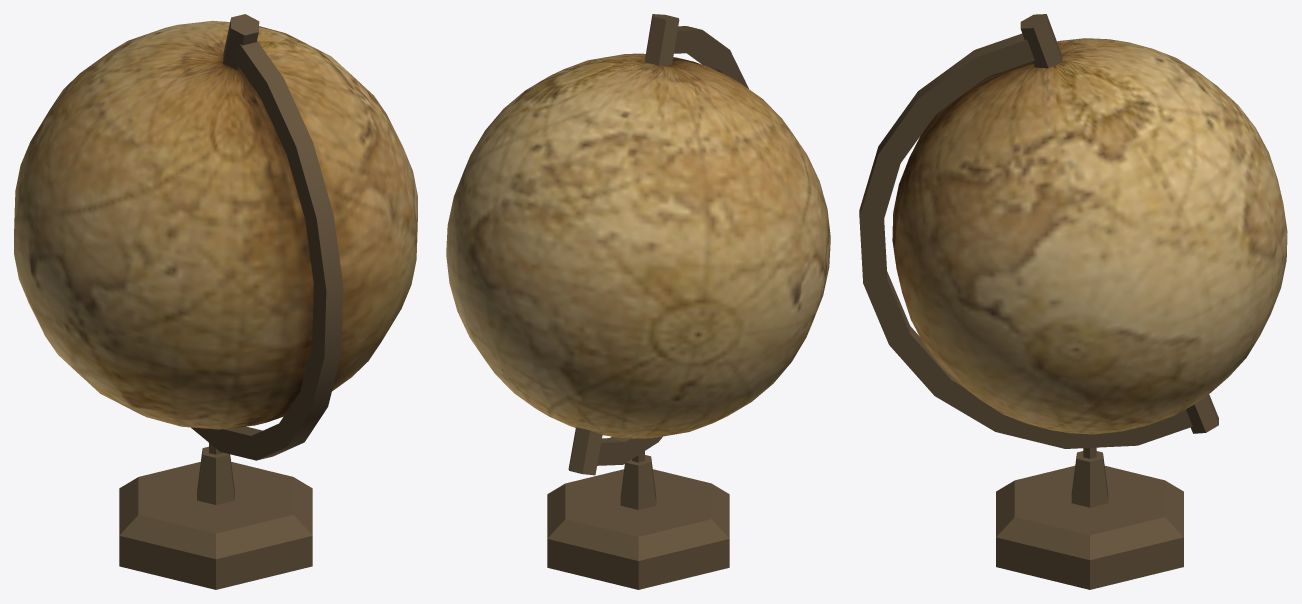
File: Globe.fbx
The picture shows the model from 3 angles, left to right: view 1: azimuth 30°, elevation 25°; view 2: azimuth 150°, elevation 25°; view 3: azimuth 270°, elevation 25°; orthographic projection. The views are drawn at different scales.
Visible parts, largest first — view 1: Globe, GlobeFrame; view 2: Globe, GlobeFrame; view 3: Globe, GlobeFrame.
Part boxes in pixels (left/top/right/bottom): Globe: left=14, top=20, right=417, bottom=429; GlobeFrame: left=119, top=14, right=343, bottom=589; Globe: left=446, top=53, right=830, bottom=438; GlobeFrame: left=547, top=14, right=748, bottom=589; Globe: left=892, top=38, right=1287, bottom=434; GlobeFrame: left=859, top=14, right=1218, bottom=589.
Bounding box in the file's own units: 79.72 × 117 × 86.25.
2 materials, 1 textured.
